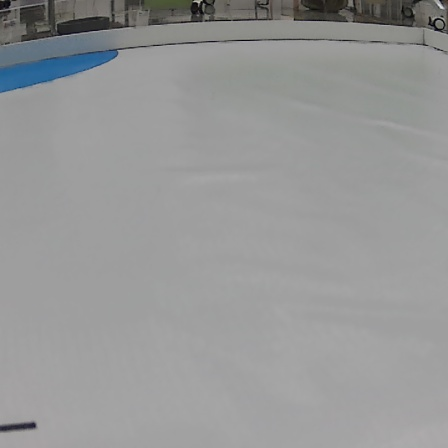blue_base: (0, 47, 118, 92)
